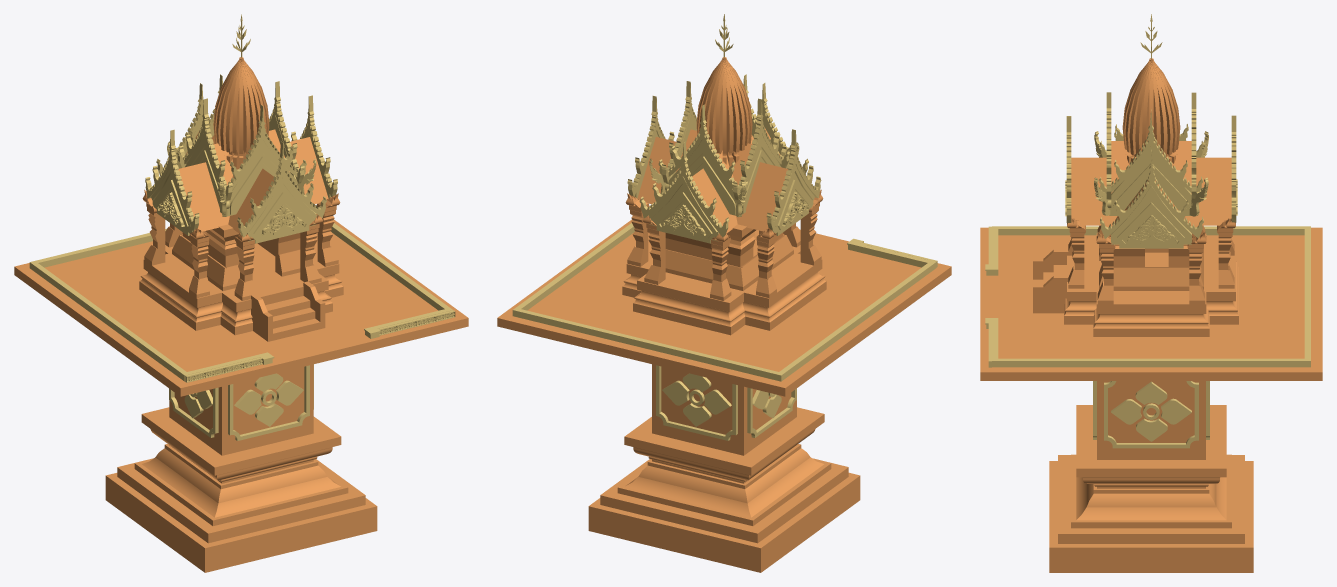
The model's file is nmk001.glb.
The picture shows the model from 3 angles, left to right: view 1: azimuth 30°, elevation 25°; view 2: azimuth 150°, elevation 25°; view 3: azimuth 270°, elevation 25°; orthographic projection. The views are drawn at different scales.
Parts seen in each view (by area): view 1: Part2[9], Part4[15], Part5[27], Part60[367], Part36[203], Part72[575], Part62[395], Part39[279], Part38[216], images (7)[716], Part42[284], Part72[593] (+16 smaller); view 2: Part2[9], Part4[15], Part5[27], Part60[367], Part36[203], Part72[590], Part39[279], Part38[256], images (7)[721], Part42[290], images (7)[719], Part72[593] (+15 smaller); view 3: Part2[9], Part4[15], Part5[27], Part60[367], Part39[227], Part36[203], Part72[587], Part38[272], Part42[309], Part62[395], images (7)[723], images (7)[722] (+15 smaller).
Boxes of the visible parts, x1,y1,x2,y2 form: Part2[9]: [105, 364, 377, 572]; Part4[15]: [14, 219, 468, 396]; Part5[27]: [139, 245, 343, 335]; Part60[367]: [29, 209, 452, 381]; Part36[203]: [172, 224, 300, 290]; Part72[575]: [228, 365, 309, 440]; Part62[395]: [251, 281, 325, 341]; Part39[279]: [178, 137, 328, 231]; Part38[216]: [247, 177, 317, 243]; images (7)[716]: [237, 141, 326, 237]; Part42[284]: [227, 140, 297, 216]; Part72[593]: [169, 387, 218, 437]; Part2[9]: [588, 364, 860, 572]; Part4[15]: [497, 219, 951, 396]; Part5[27]: [622, 230, 826, 335]; Part60[367]: [512, 223, 936, 381]; Part36[203]: [665, 224, 793, 290]; Part72[590]: [656, 365, 737, 440]; Part39[279]: [637, 137, 787, 231]; Part38[256]: [648, 176, 718, 243]; images (7)[721]: [639, 141, 729, 237]; Part42[290]: [666, 140, 743, 215]; images (7)[719]: [766, 129, 821, 231]; Part72[593]: [747, 387, 796, 437]; Part2[9]: [1049, 381, 1253, 572]; Part4[15]: [980, 227, 1322, 380]; Part5[27]: [1064, 233, 1238, 336]; Part60[367]: [985, 226, 1310, 367]; Part39[227]: [1071, 157, 1231, 225]; Part36[203]: [1099, 224, 1203, 290]; Part72[587]: [1104, 381, 1198, 448]; Part38[272]: [1111, 186, 1191, 248]; Part42[309]: [1108, 146, 1191, 215]; Part62[395]: [1033, 249, 1068, 313]; images (7)[723]: [1100, 150, 1203, 238]; images (7)[722]: [1099, 109, 1202, 193].
Bounding box in the file's own units: 0.0165 × 0.0274 × 0.0165.
